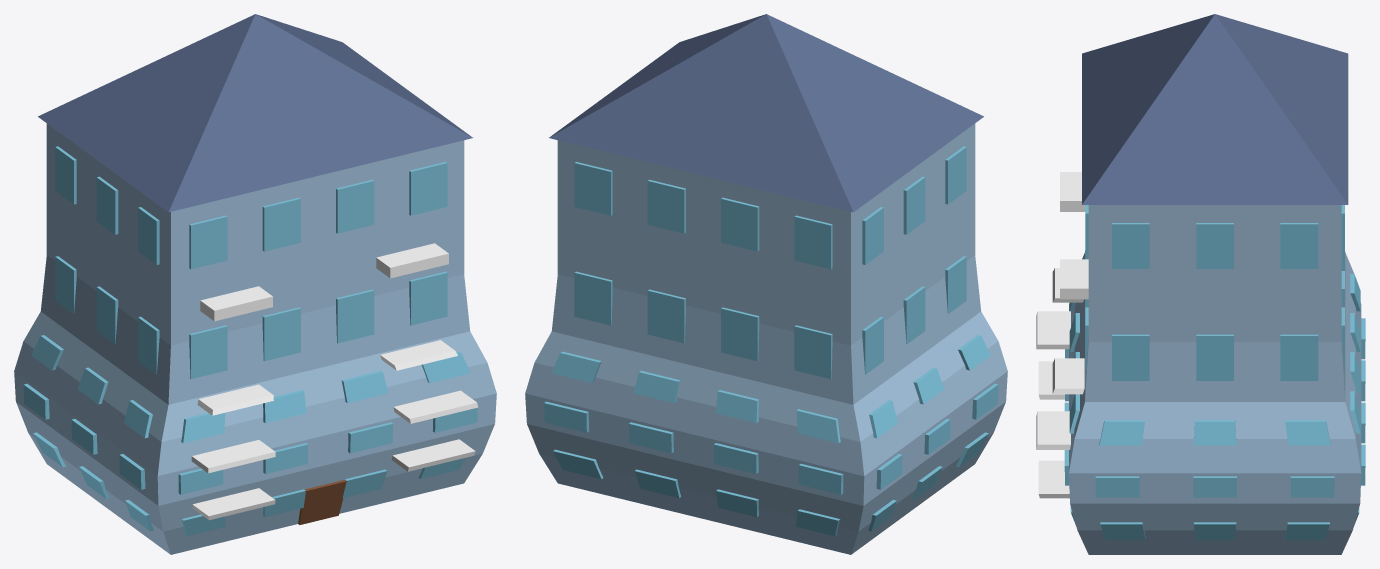
File: apartment_2.glb
3 views of the same model, side by side, from view 1: azimuth 30°, elevation 25°; view 2: azimuth 150°, elevation 25°; view 3: azimuth 270°, elevation 25° (orthographic).
Parts seen in each view (by area): view 1: apartment_2_wall_blue, apartment_2_roof_slate, apartment_2_window, apartment_2_white, apartment_2_door; view 2: apartment_2_wall_blue, apartment_2_roof_slate, apartment_2_window; view 3: apartment_2_wall_blue, apartment_2_roof_slate, apartment_2_window, apartment_2_white.
Boxes of the visible parts, x1,y1,x2,y2 form: apartment_2_wall_blue: (14, 123, 496, 554); apartment_2_roof_slate: (38, 14, 472, 212); apartment_2_window: (23, 146, 477, 536); apartment_2_white: (191, 243, 478, 520); apartment_2_door: (298, 480, 347, 524); apartment_2_wall_blue: (525, 123, 1007, 554); apartment_2_roof_slate: (549, 14, 983, 212); apartment_2_window: (544, 146, 998, 536); apartment_2_wall_blue: (1069, 205, 1361, 554); apartment_2_roof_slate: (1082, 14, 1348, 204); apartment_2_window: (1064, 205, 1365, 540); apartment_2_white: (1036, 172, 1088, 498).
Bounding box in the file's own units: 18.43 × 23.38 × 14.89.
